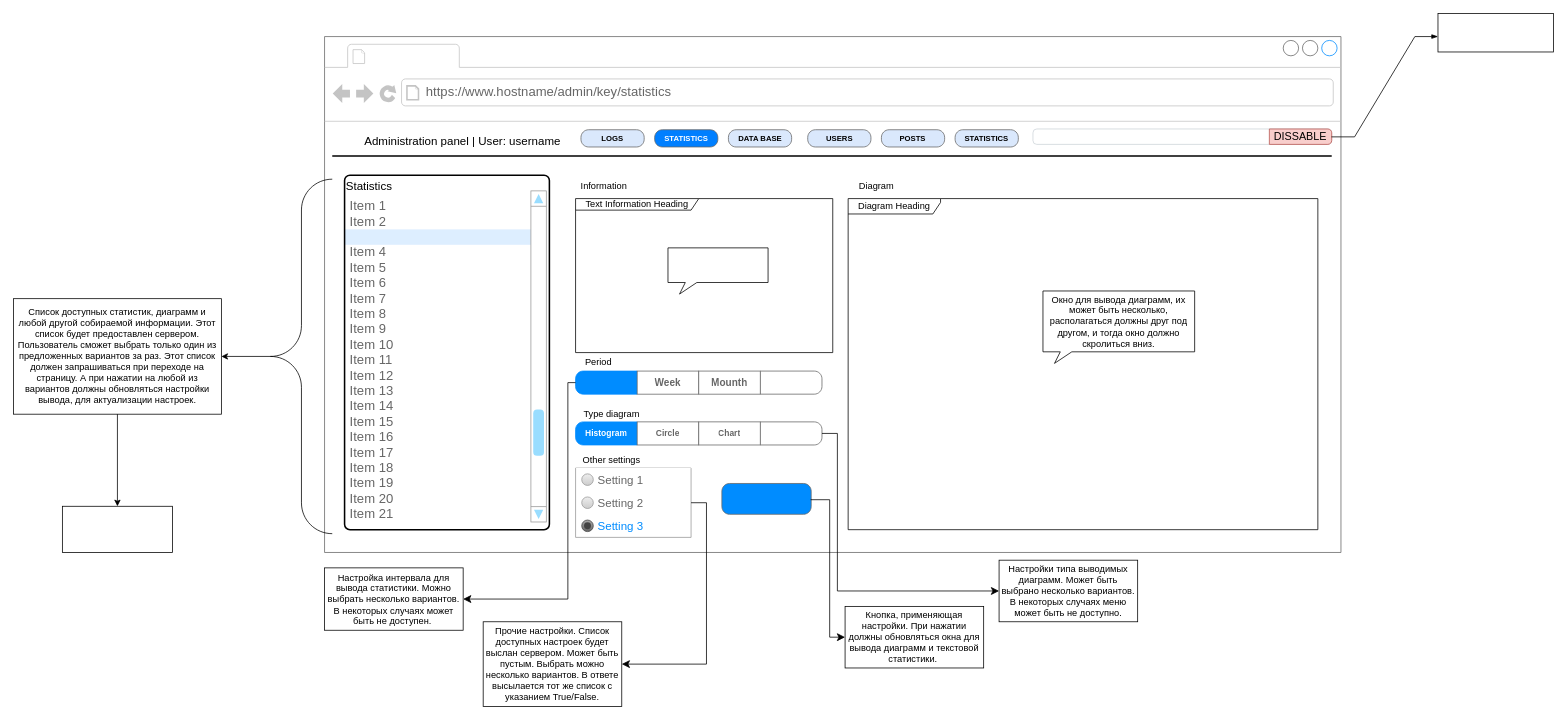
The diagram is 1567 pixels wide and 720 high, and some of its shapes have lost their labels. The centre of each missing label's shape, as x and y in pixels:
Accept: the point at 766,498
Day: the point at 606,382
Item 3: the point at 439,236
linear: the point at 791,433
Page 1: the point at 412,55
Token: the point at 1182,136
Yearh: the point at 791,382
Количество зависит от того, кто запрашивает данные, а так-же от наличия токена.: the point at 117,529
На этой странице токен не влияет на доступный интерфейс: the point at 1495,32
Это окно для вывода текстовой статистики: the point at 717,270
